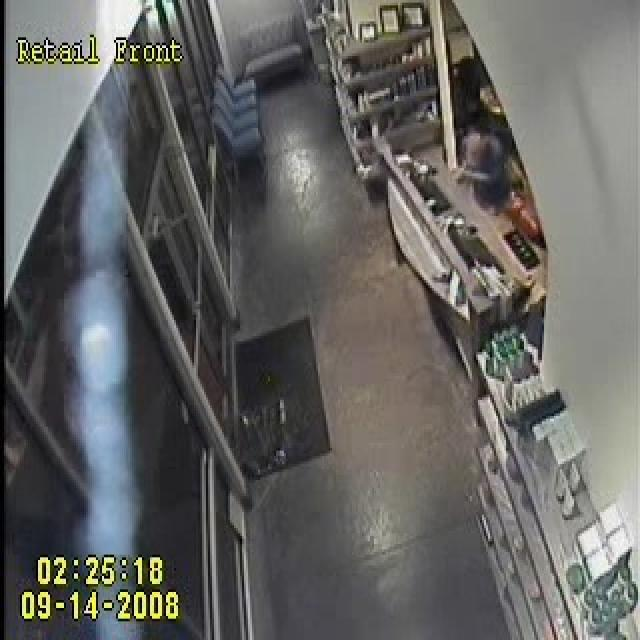thief: (459, 111, 515, 237)
